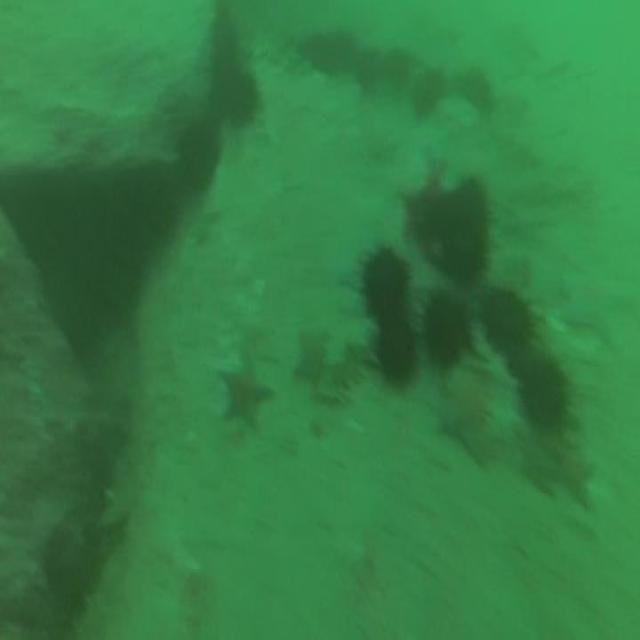echinus: (439, 183, 490, 288), (518, 354, 572, 427), (482, 283, 532, 357), (364, 248, 410, 316), (425, 291, 466, 363), (178, 117, 217, 186), (378, 318, 417, 380), (224, 71, 259, 125), (456, 65, 490, 107), (328, 26, 356, 70), (351, 40, 380, 82), (306, 30, 331, 71), (419, 66, 445, 102), (385, 46, 409, 84)
holothurian: (314, 340, 366, 401)
starfish: (431, 384, 491, 457), (219, 357, 273, 427), (551, 447, 595, 501), (519, 439, 551, 496)
